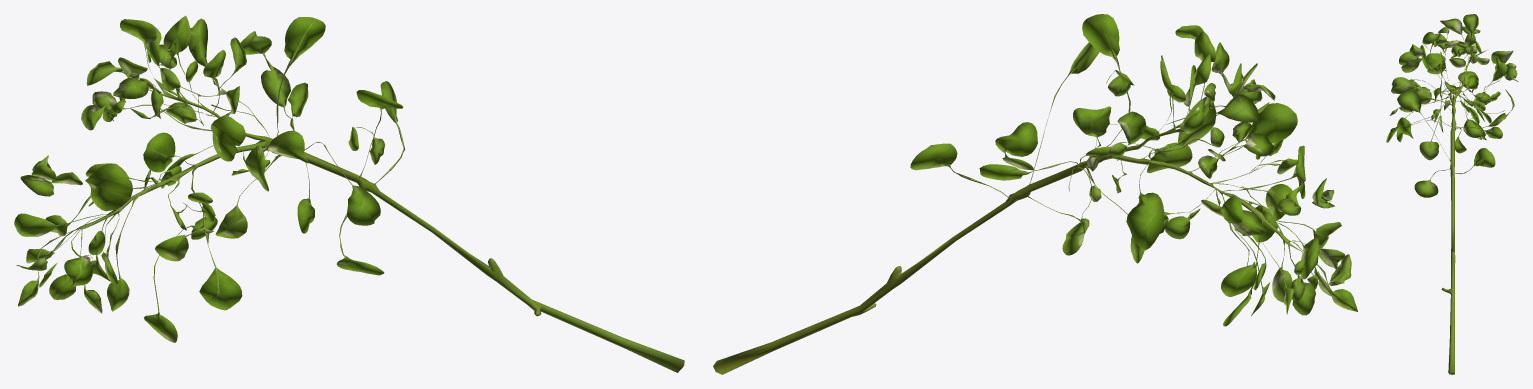
The model's file is elodea.glb.
3 renders of one model, left to right at view 1: azimuth 30°, elevation 25°; view 2: azimuth 150°, elevation 25°; view 3: azimuth 270°, elevation 25°, orthographic. The views are drawn at different scales.
Size of the model in its own units: 0.9541 by 0.6406 by 0.3291.
Materials: 1 (1 with a texture image).
